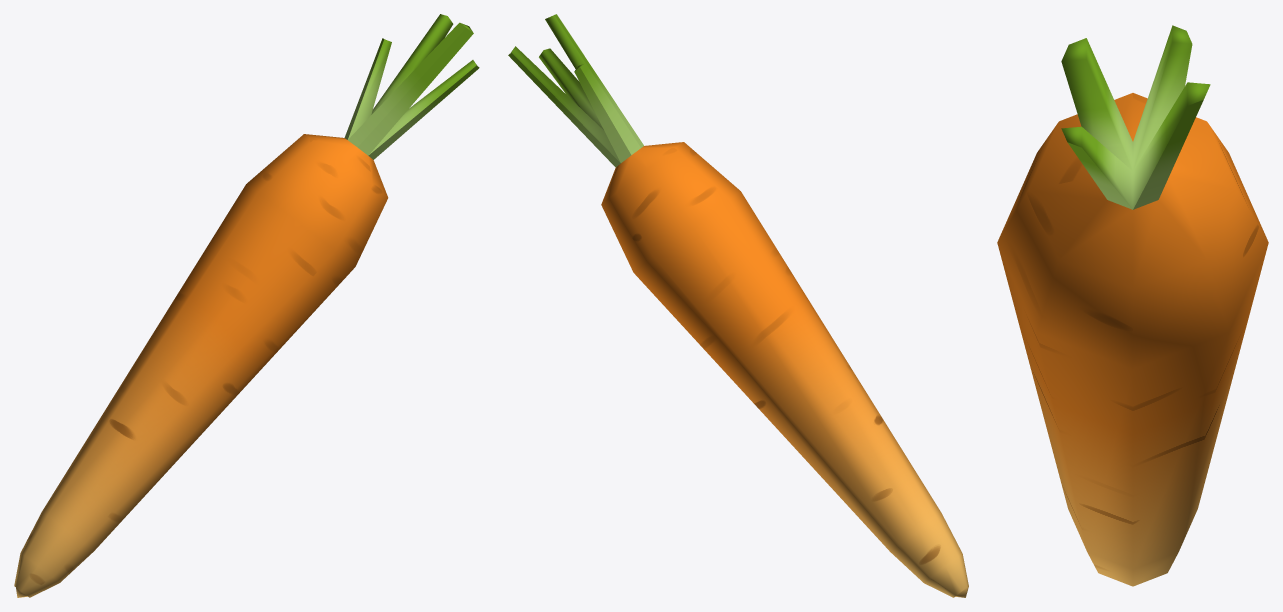
Rendered from low_poly_carrot.glb.
3 views of the same model, side by side, from view 1: azimuth 30°, elevation 25°; view 2: azimuth 150°, elevation 25°; view 3: azimuth 270°, elevation 25° (orthographic). The views are drawn at different scales.
Visible parts, largest first — view 1: Carrot; view 2: Carrot; view 3: Carrot.
Part boxes in pixels (x1,y1,x2,y2): Carrot: (14, 14, 479, 597); Carrot: (508, 14, 968, 597); Carrot: (997, 25, 1268, 586).
Bounding box in the file's own units: 3.43 × 3.49 × 0.9082.
2 materials, 2 textured.
